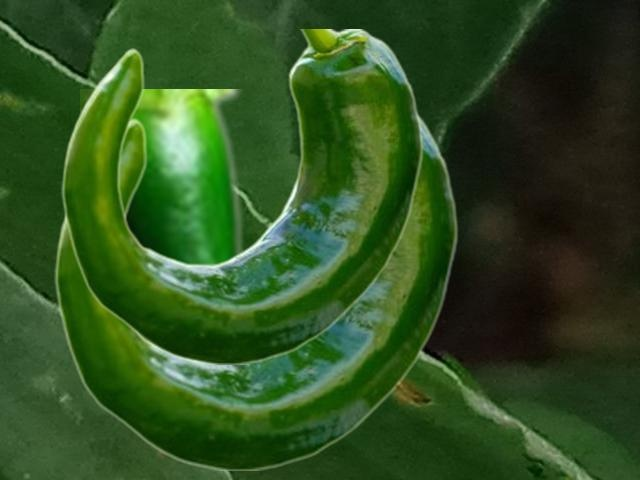green_chili: (54, 111, 458, 469), (61, 29, 423, 363), (80, 89, 250, 262)
